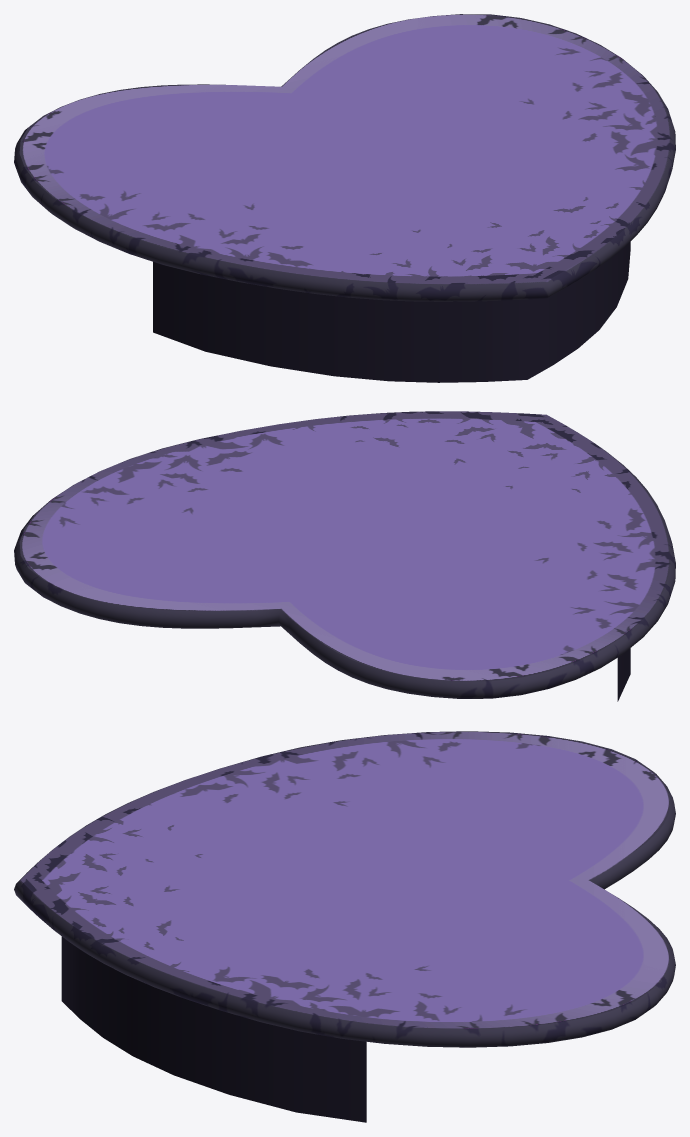
File: table_03.glb
The picture shows the model from 3 angles, top to bottom: view 1: azimuth 30°, elevation 25°; view 2: azimuth 150°, elevation 25°; view 3: azimuth 270°, elevation 25°; orthographic projection. The views are drawn at different scales.
Visible parts, largest first — view 1: table_03; view 2: table_03; view 3: table_03.
Boxes of the visible parts, left/top/right/bottom form: table_03: left=14, top=14, right=675, bottom=382; table_03: left=14, top=411, right=675, bottom=701; table_03: left=14, top=731, right=675, bottom=1122.
Size of the model in its own units: 1.23 by 0.2301 by 1.14.
1 material, 1 textured.
